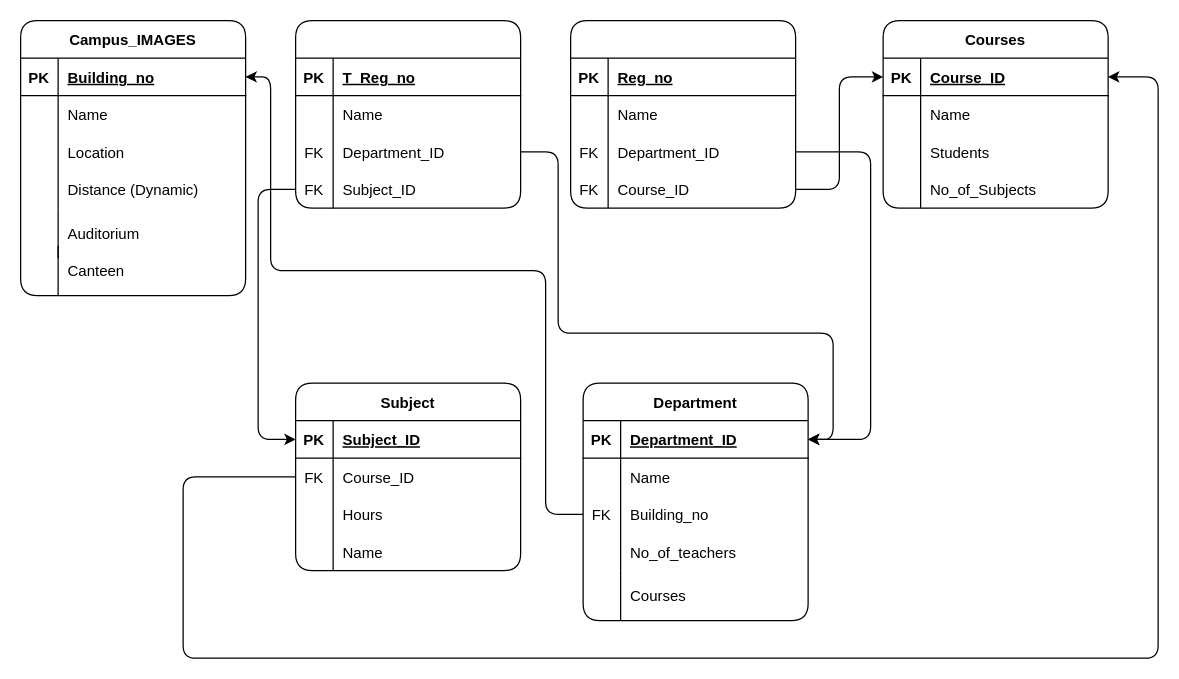
Some shapes in this 1179 by 679 pixel diagram are drawn without their labels. The shapes that lost their labels are listed below. From the top down, each one's box as (x1, y1, x2, y2) in pixels, then its label:
(294, 19, 521, 208): Teacher_IMAGES
(569, 19, 796, 208): Student
